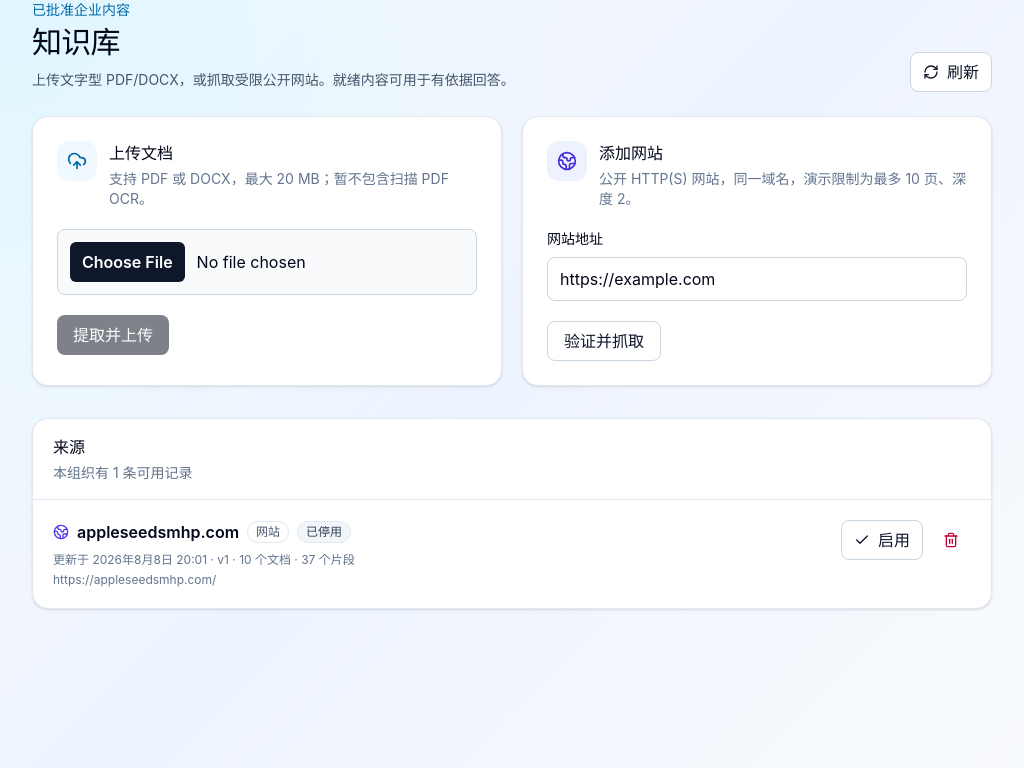
Test: knowledge workspace source management › keeps the in-page confirmation visible when deletion fails
This screenshot has width=1024, height=768.
Click the button named "删除 appleseedsmhp.com".
click(951, 540)  # box [931, 520, 971, 560]
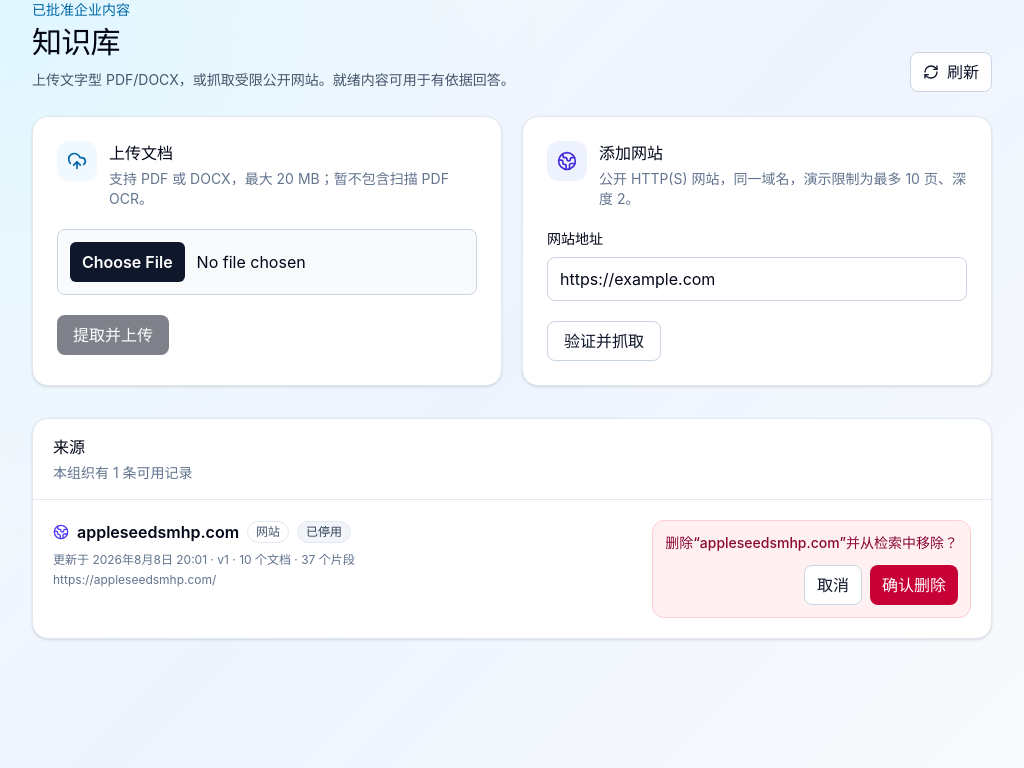
Click the button "确认删除".
click(914, 585)  # box [870, 565, 958, 605]
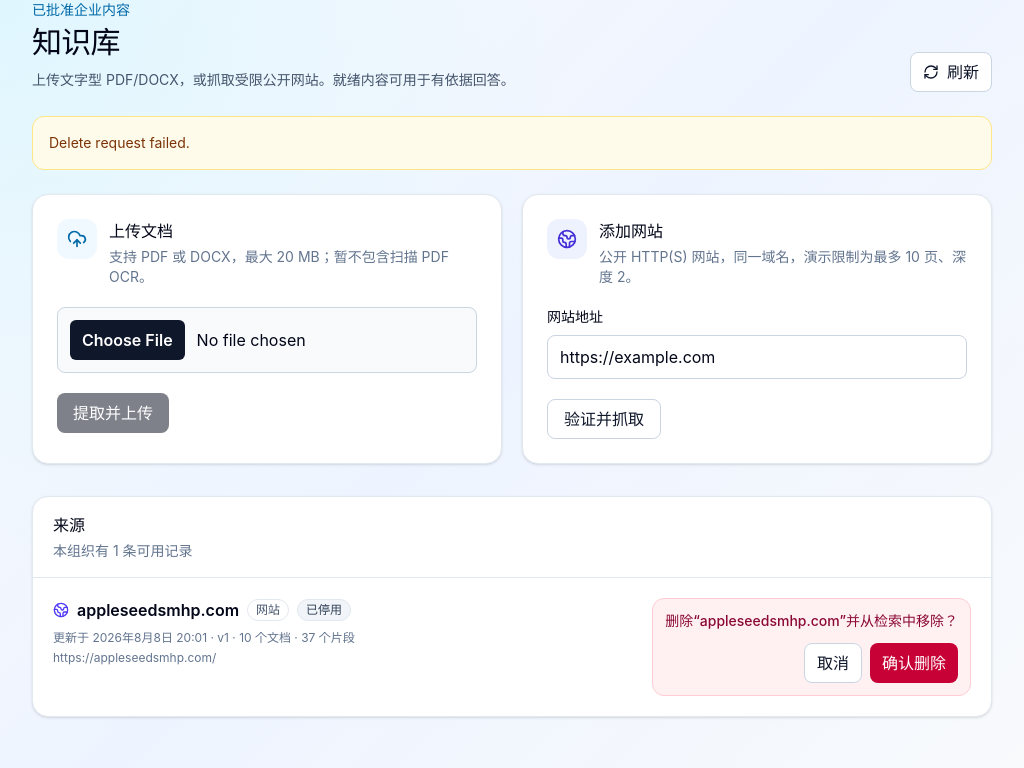
Result: the dialog named "删除 appleseedsmhp.com" is shown at [652, 598, 971, 696]
Result: the text "Delete request failed." is shown at [32, 116, 992, 170]
